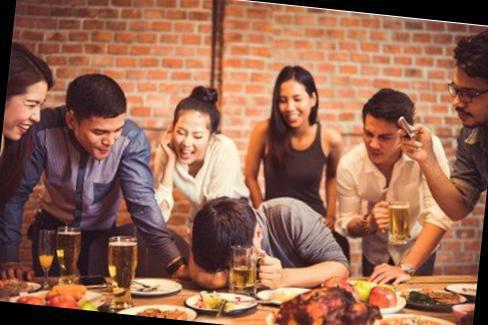Drunk: (8, 82, 45, 140), (450, 69, 486, 127), (170, 115, 209, 165), (84, 113, 125, 159), (278, 82, 314, 128), (364, 117, 398, 163)
